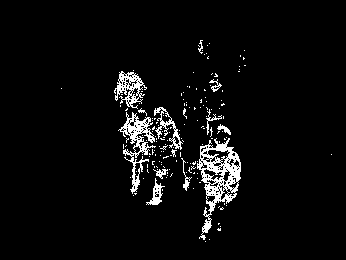person: (200, 125, 242, 241), (149, 104, 182, 206), (120, 110, 150, 195), (114, 66, 144, 132)
